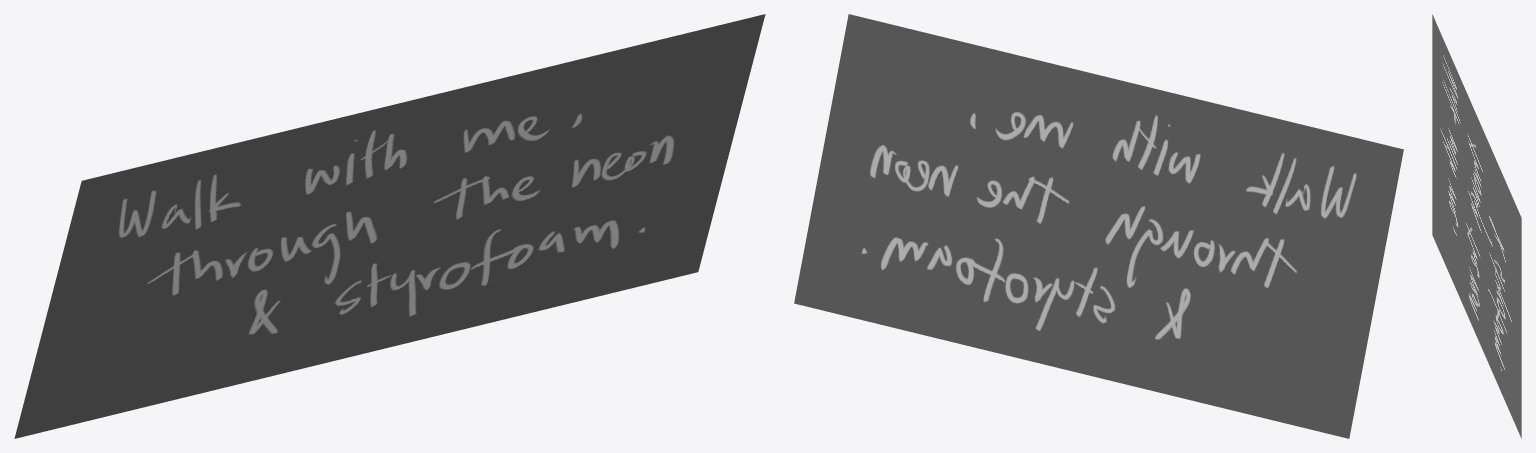
3 views of the same model, side by side, from view 1: azimuth 30°, elevation 25°; view 2: azimuth 150°, elevation 25°; view 3: azimuth 270°, elevation 25° (orthographic). The views are drawn at different scales.
Visible parts, largest first — view 1: Plane.001; view 2: Plane.001; view 3: Plane.001.
Part boxes in pixels (x1,y1,x2,y2): Plane.001: (14, 14, 765, 438); Plane.001: (794, 14, 1403, 438); Plane.001: (1432, 14, 1521, 438).
Bounding box in the file's own units: 2.62 × 1.12 × 0.446.
1 material, 1 textured.
